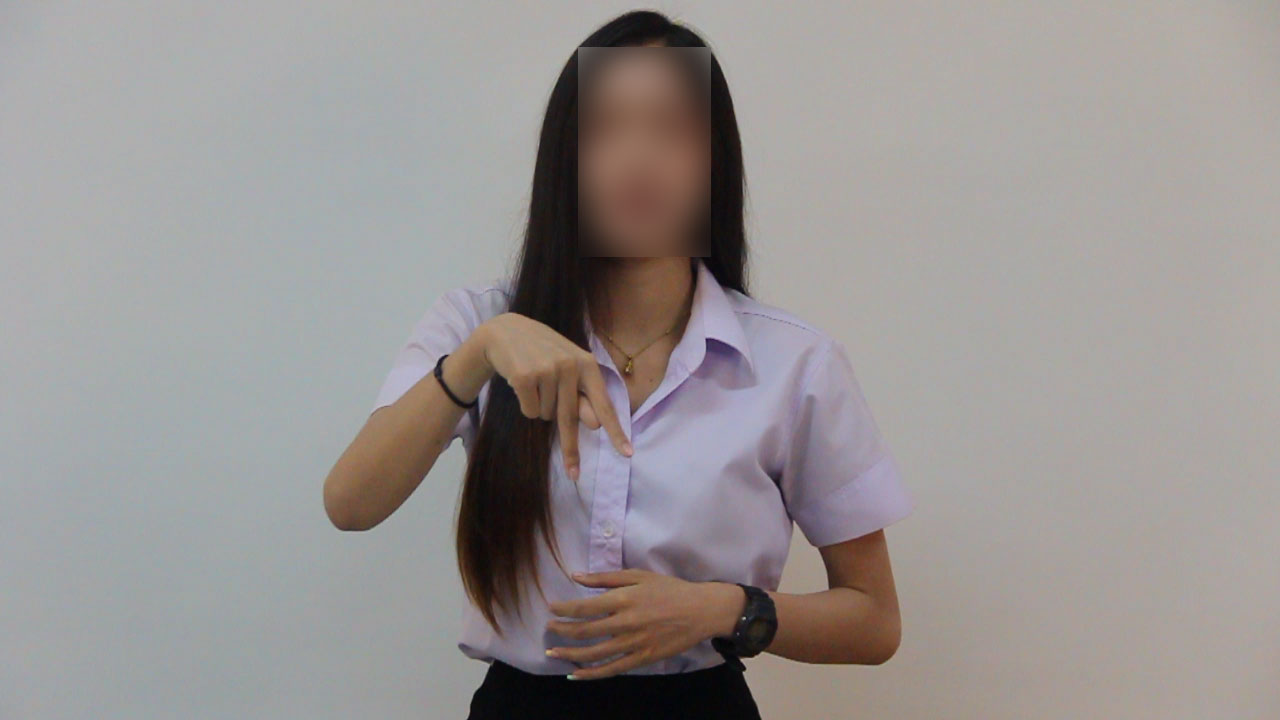por: (462, 295, 639, 488)
